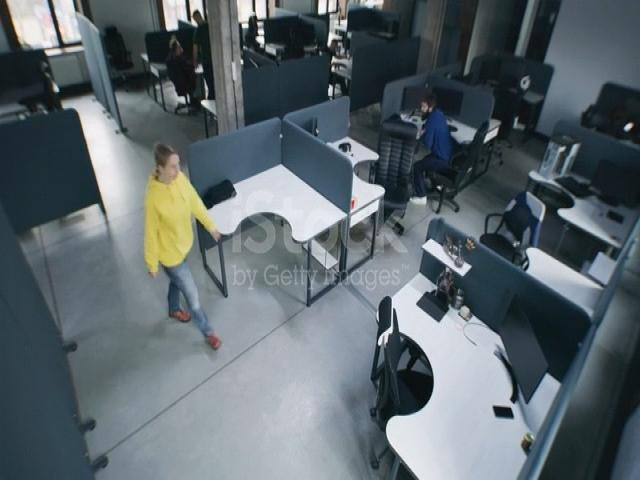EMPTY_CHAIR: (342, 278, 423, 420), (361, 109, 419, 250), (479, 183, 550, 290), (492, 73, 525, 185), (104, 10, 144, 97), (34, 54, 70, 118)
PERSON_IN_CHAIR: (423, 84, 492, 212), (159, 27, 216, 121), (316, 23, 358, 107), (576, 92, 640, 138)
